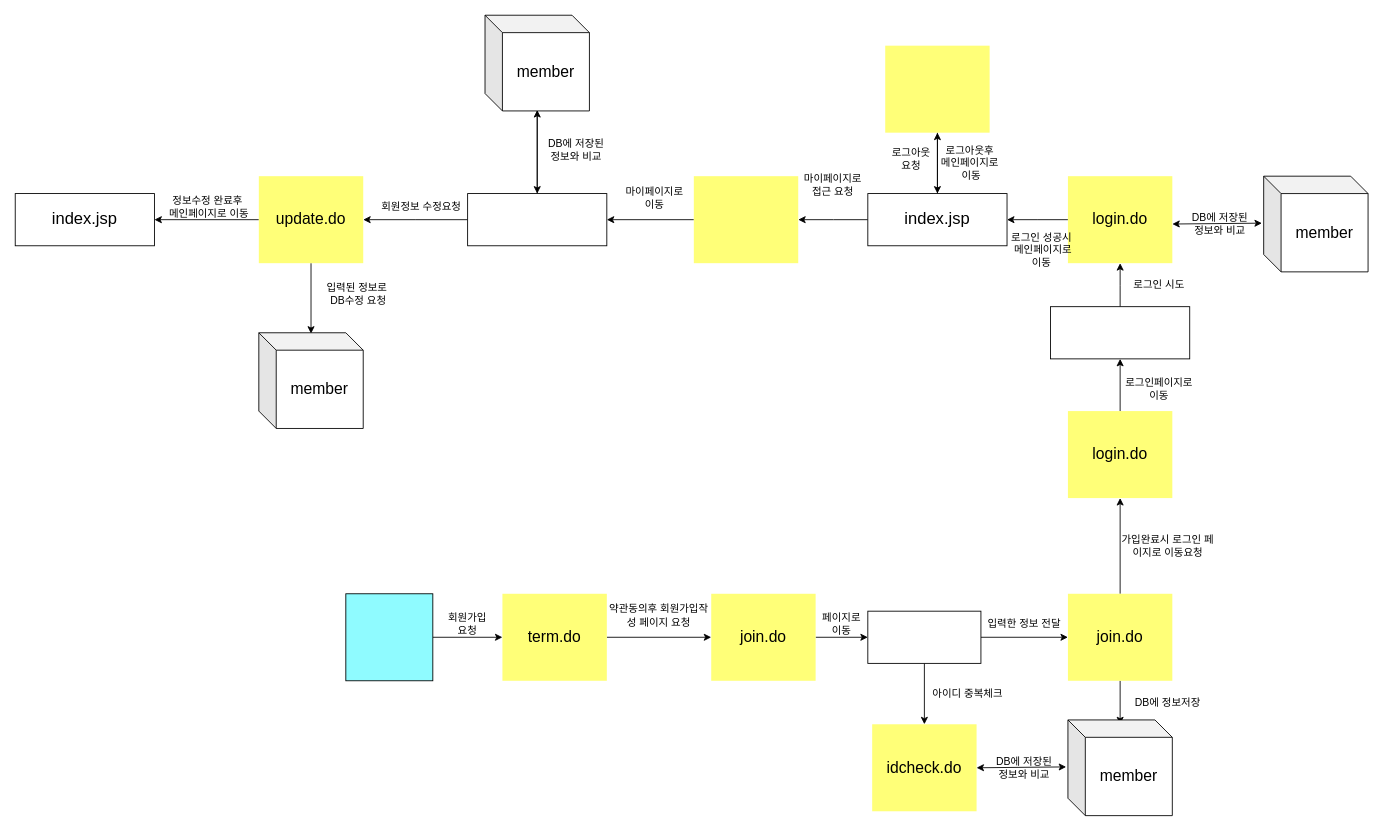
The diagram is 1383 pixels wide and 831 high, and some of its shapes have lost their labels. Here are the shapes that lost their labels. From the top down, the centre of each, then its label:
pixel 937 88: logout.do
pixel 537 219: mypage.jsp
pixel 745 219: mypage.do
pixel 1120 332: login.jsp
pixel 389 637: Member Controller .java
pixel 924 636: join.jsp
